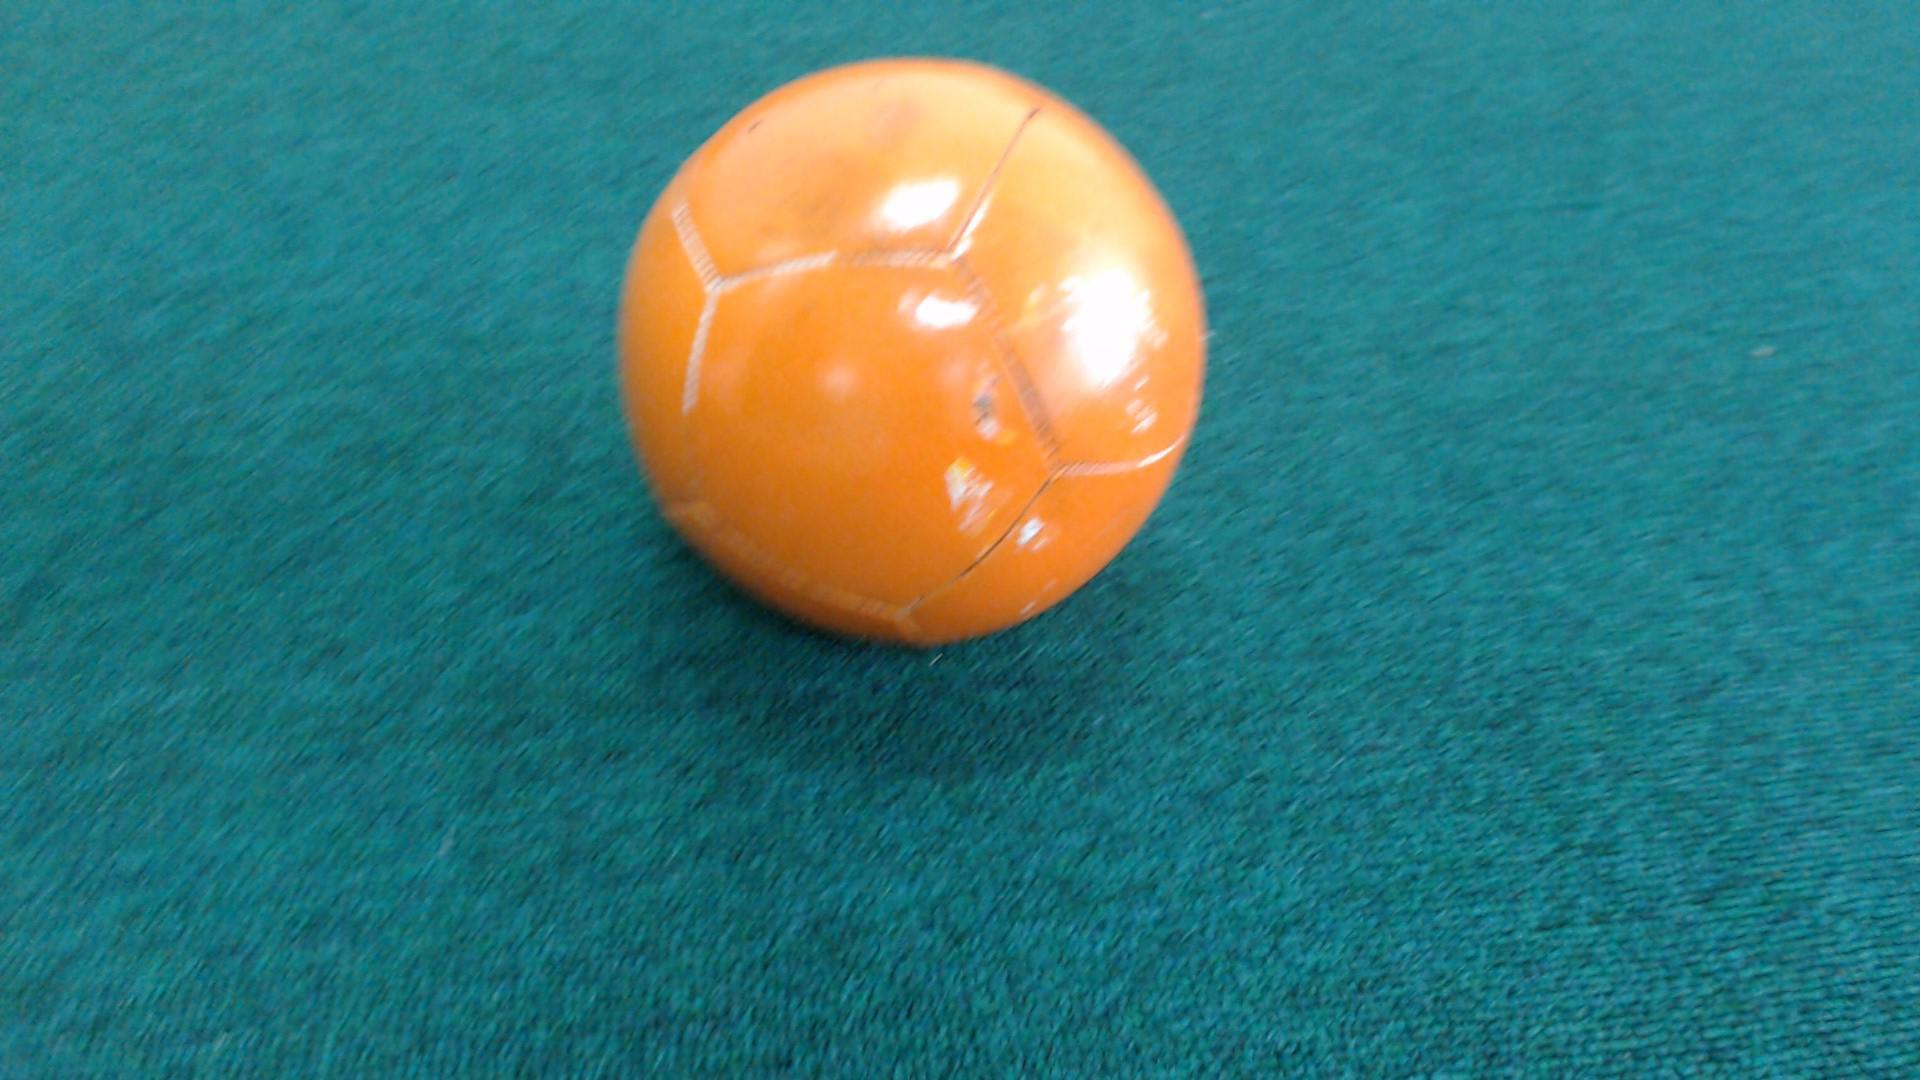bola: (604, 38, 1221, 686)
